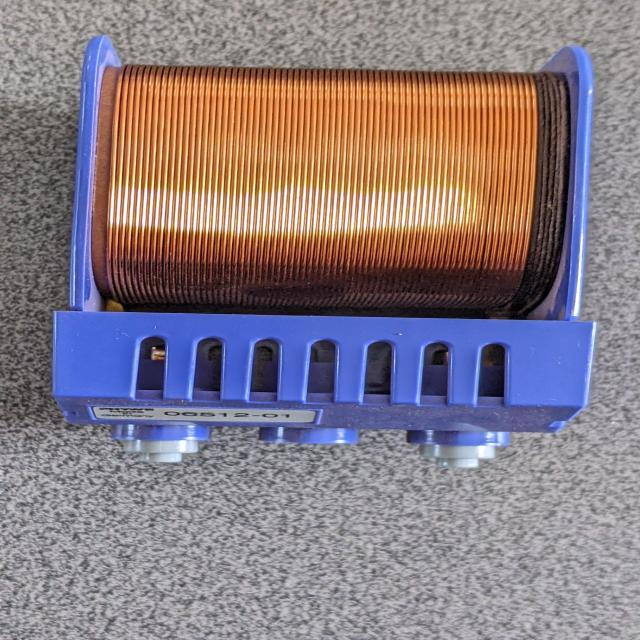Solenoid: (28, 36, 632, 473)
